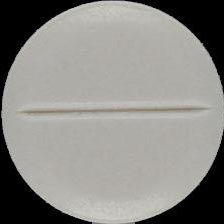0093-0053: (0, 0, 224, 224)
